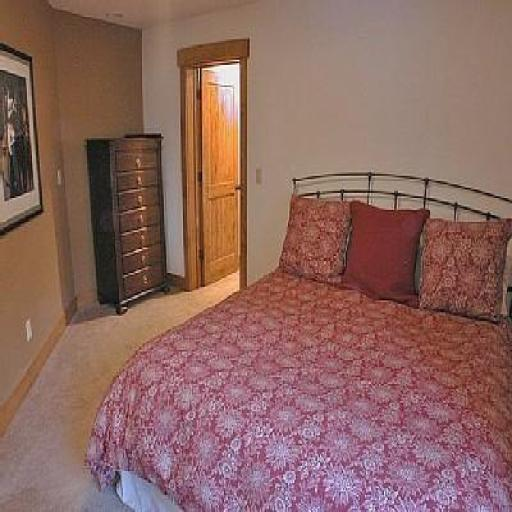bed: (75, 148, 512, 511)
